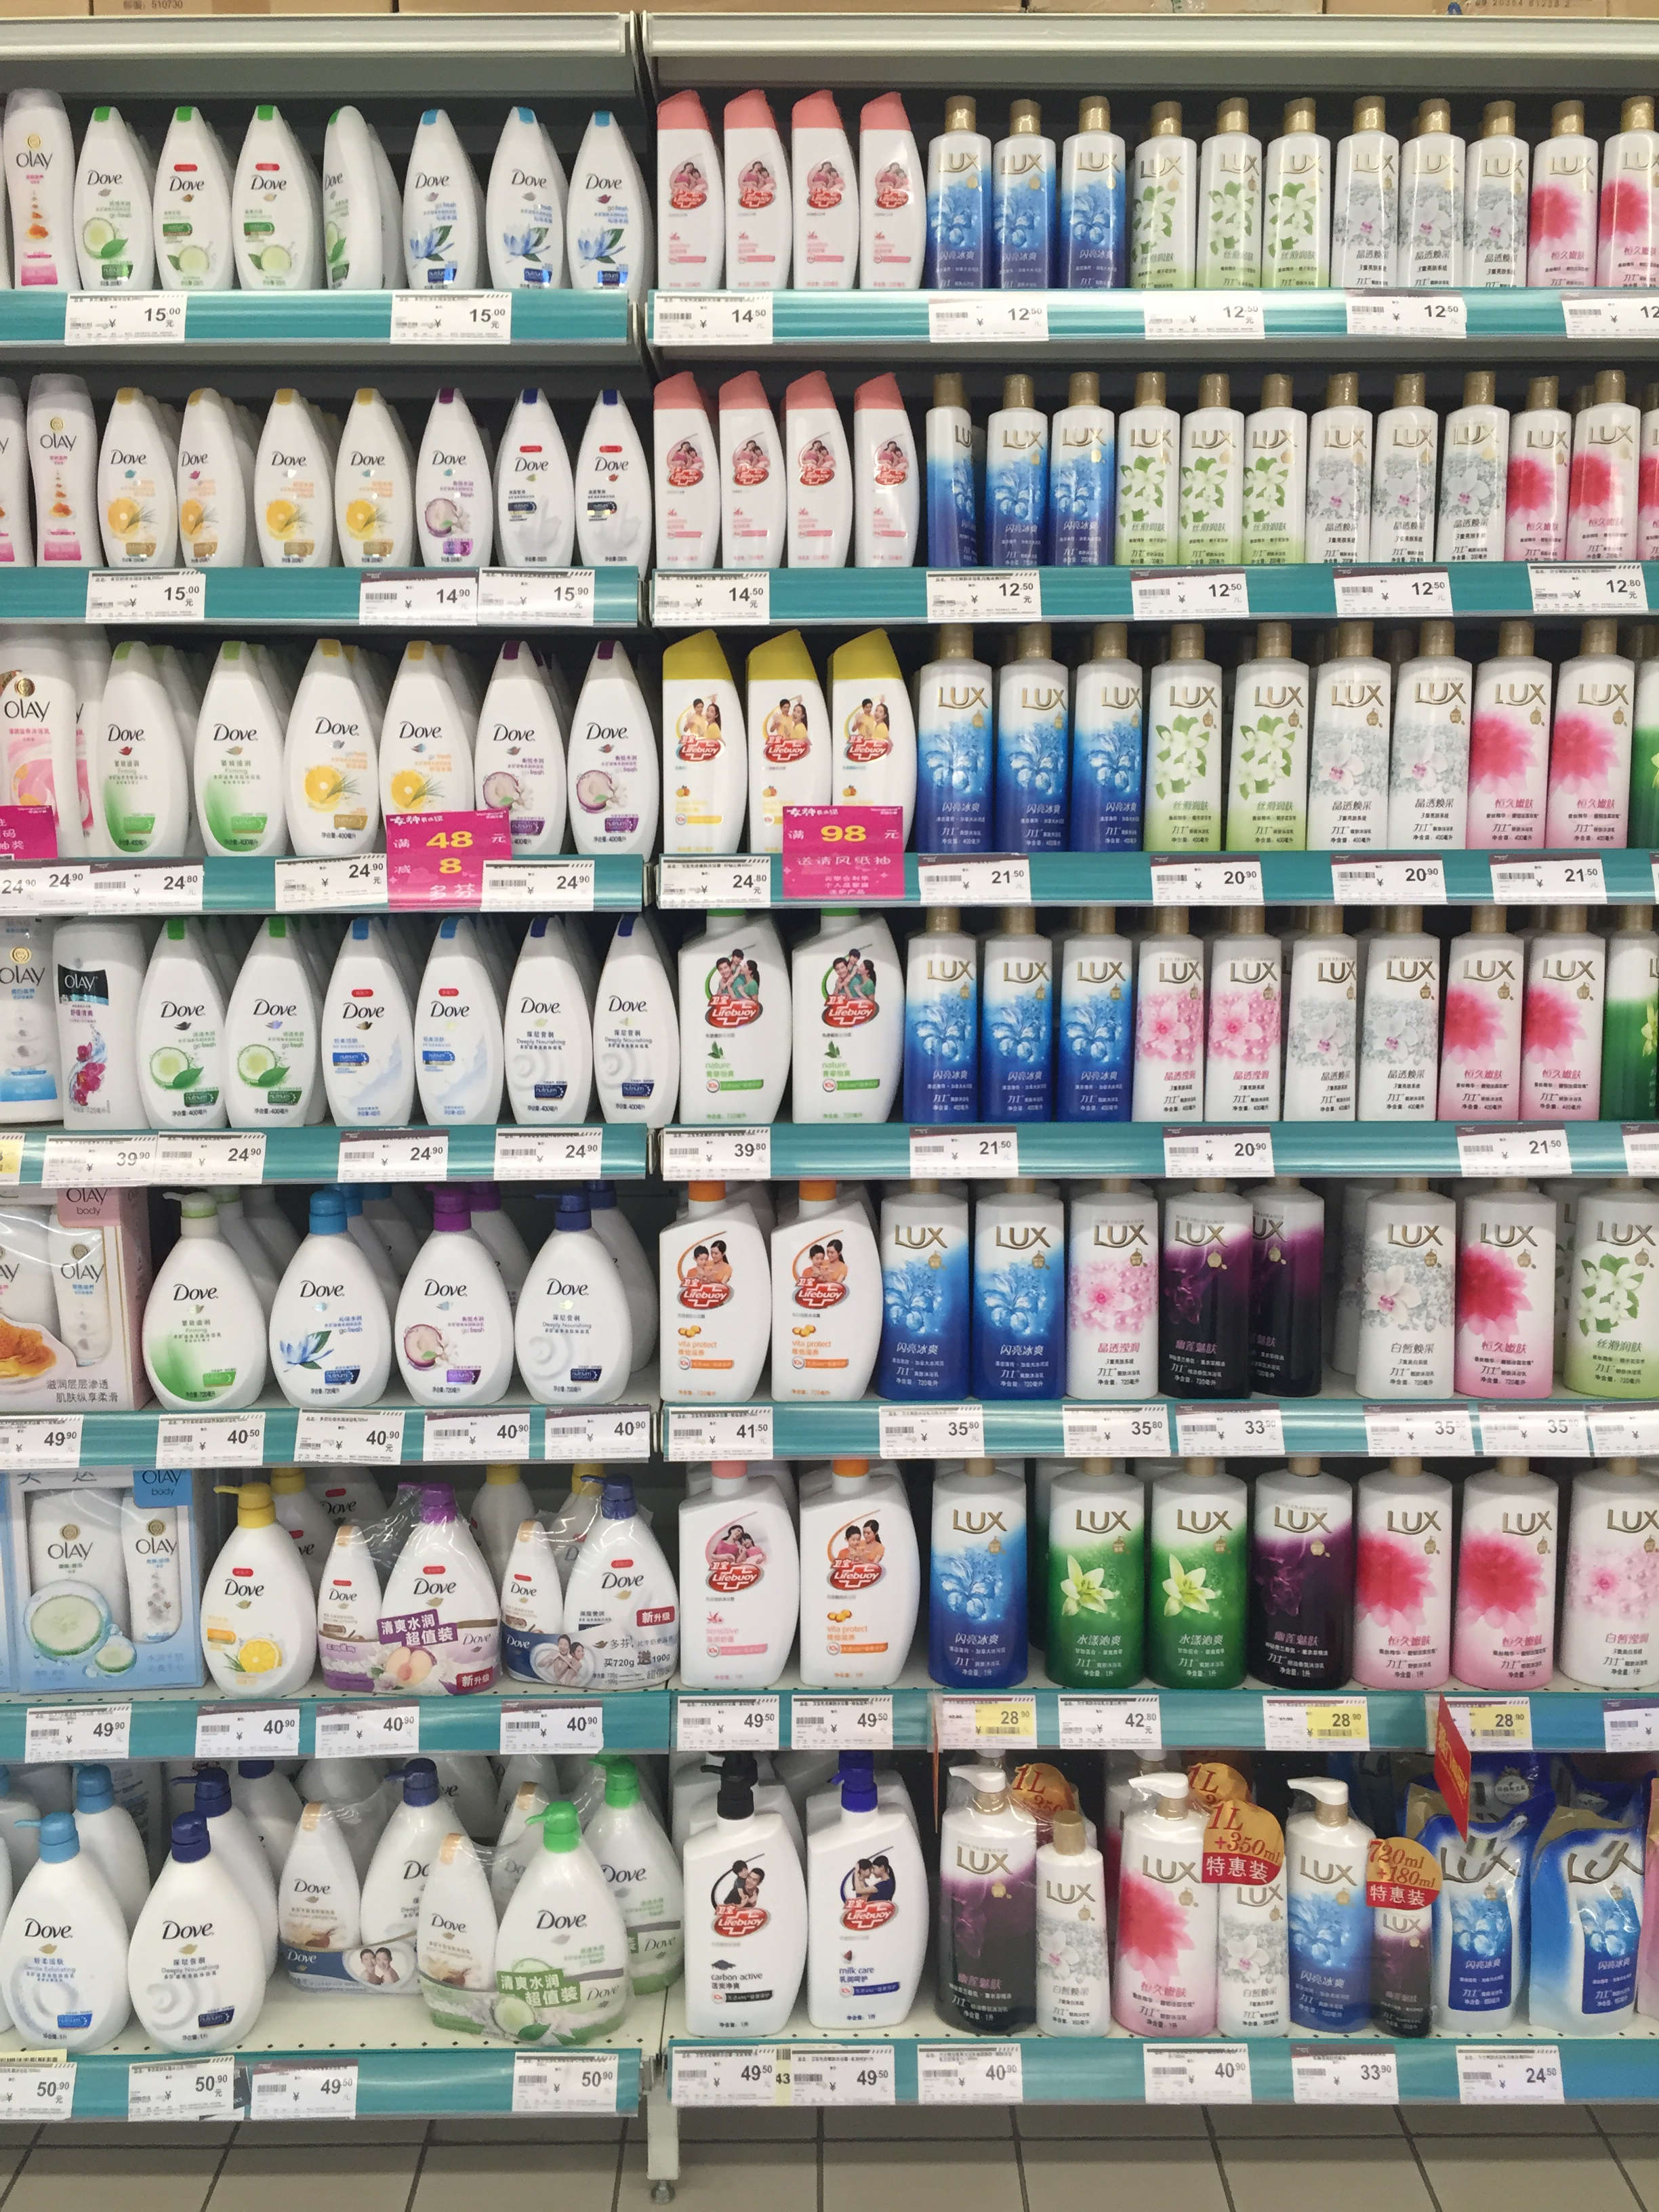Misplacement: (253, 1759, 432, 2047)
